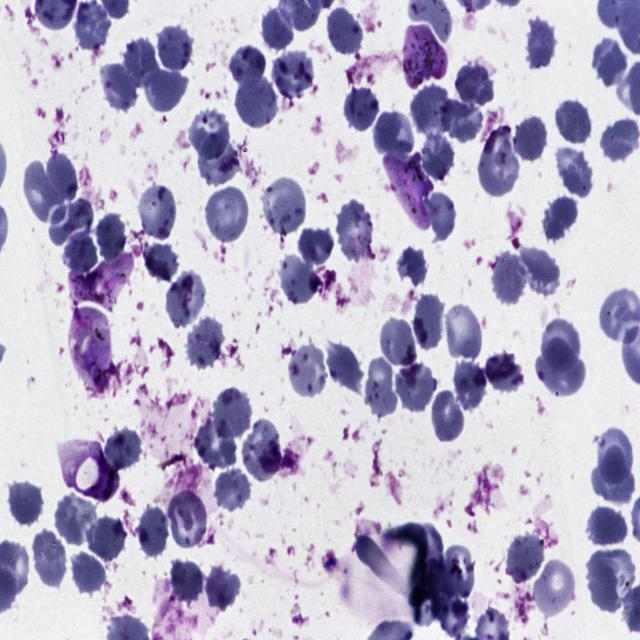difficult: (382, 150, 434, 232), (56, 437, 120, 502), (400, 20, 448, 89)
red blood cell: (585, 546, 636, 611), (477, 124, 520, 197), (261, 174, 308, 239), (531, 557, 578, 621), (537, 338, 586, 398), (23, 160, 67, 226), (284, 340, 330, 403), (204, 184, 250, 246), (334, 195, 376, 262), (591, 444, 637, 503), (210, 383, 254, 444), (136, 180, 178, 243), (241, 418, 282, 482), (47, 195, 96, 248), (53, 491, 99, 547), (182, 314, 226, 372), (167, 488, 207, 550), (325, 338, 365, 399), (234, 76, 279, 130), (29, 528, 68, 590), (408, 82, 451, 138), (517, 245, 562, 298), (372, 108, 416, 162), (394, 360, 437, 414), (162, 272, 204, 327), (271, 49, 315, 101), (540, 317, 581, 372), (198, 133, 242, 184), (364, 354, 398, 418), (445, 303, 483, 360), (378, 316, 418, 370), (193, 418, 236, 468), (489, 249, 526, 307), (596, 426, 633, 484), (504, 533, 546, 584), (278, 253, 318, 305), (411, 293, 445, 353), (430, 387, 465, 445), (554, 146, 593, 198), (524, 12, 556, 75), (6, 476, 44, 529), (323, 6, 362, 57), (143, 68, 189, 111), (441, 96, 484, 142), (136, 504, 170, 562), (421, 189, 458, 242), (554, 97, 593, 147), (74, 1, 113, 51), (591, 36, 629, 87), (341, 82, 379, 132), (188, 110, 230, 155), (599, 116, 640, 162), (454, 61, 494, 108), (68, 549, 107, 597), (454, 357, 488, 412), (514, 113, 548, 166), (122, 37, 157, 87), (156, 25, 194, 71), (88, 515, 124, 563), (101, 428, 142, 470), (486, 351, 526, 394), (165, 558, 203, 603), (259, 5, 295, 51), (45, 152, 78, 202), (101, 63, 136, 110), (296, 226, 336, 267), (544, 193, 578, 241), (586, 508, 630, 545), (95, 212, 127, 262), (228, 44, 266, 86), (445, 546, 475, 599), (421, 133, 454, 181), (205, 568, 241, 612), (216, 467, 250, 513), (141, 242, 179, 282), (64, 231, 98, 274), (396, 243, 428, 288)
trophozoite: (68, 250, 134, 311), (69, 307, 115, 392)
